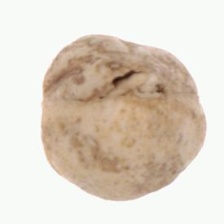L1: (94, 66, 168, 103)
L2: (40, 33, 208, 202)
